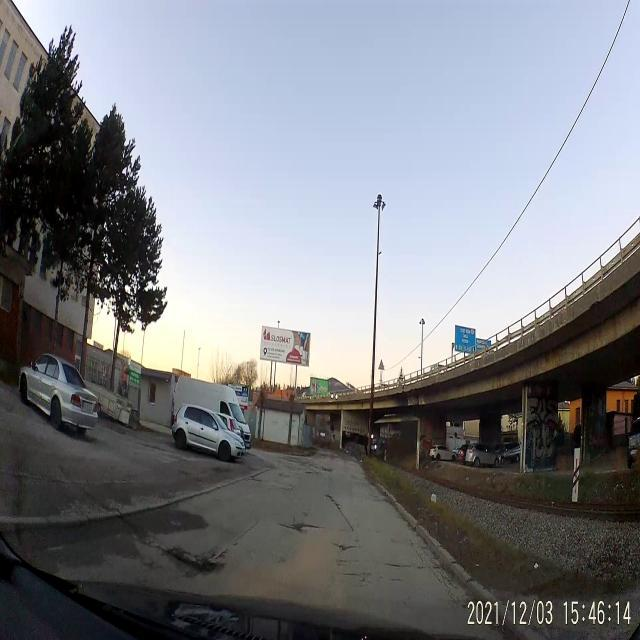Pothole: (166, 544, 223, 579), (282, 513, 322, 539), (333, 538, 358, 552), (328, 494, 342, 516)
